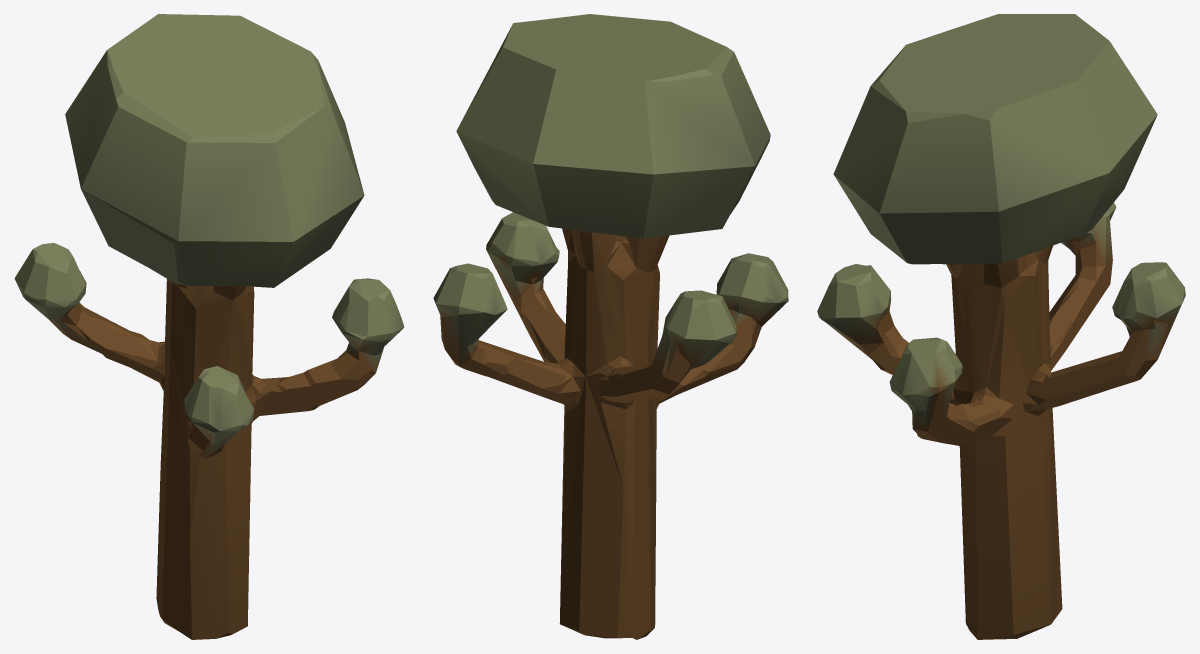
The model's file is Trees(2).glb.
3 renders of one model, left to right at view 1: azimuth 30°, elevation 25°; view 2: azimuth 150°, elevation 25°; view 3: azimuth 270°, elevation 25°, orthographic. The views are drawn at different scales.
Parts seen in each view (by area): view 1: Root; view 2: Root; view 3: Root.
Part boxes in pixels (x1=…): Root: x1=14, y1=14, x2=404, y2=639; Root: x1=433, y1=14, x2=788, y2=639; Root: x1=817, y1=14, x2=1185, y2=639.
Bounding box in the file's own units: 1.84 × 3.32 × 1.89.
